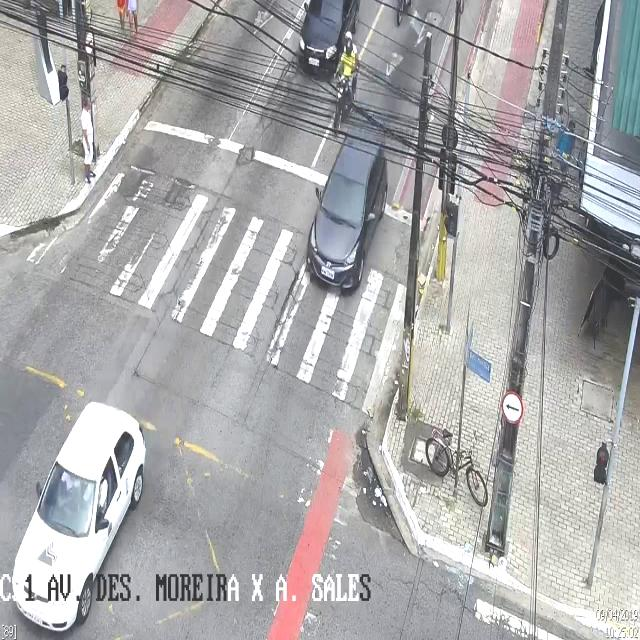Car: (11, 401, 146, 633), (306, 135, 388, 289), (298, 0, 358, 71)
Motorcycle: (334, 29, 361, 130)
